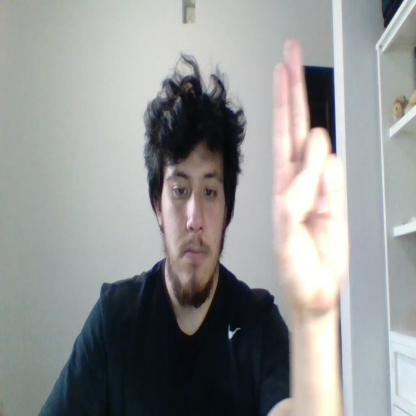U: (272, 41, 348, 319)
